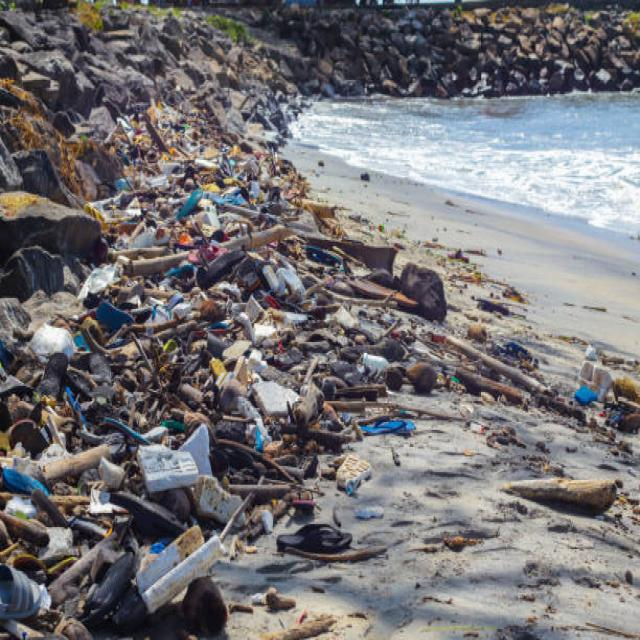plastic: (1, 557, 128, 626), (117, 179, 233, 216), (45, 353, 66, 406)
